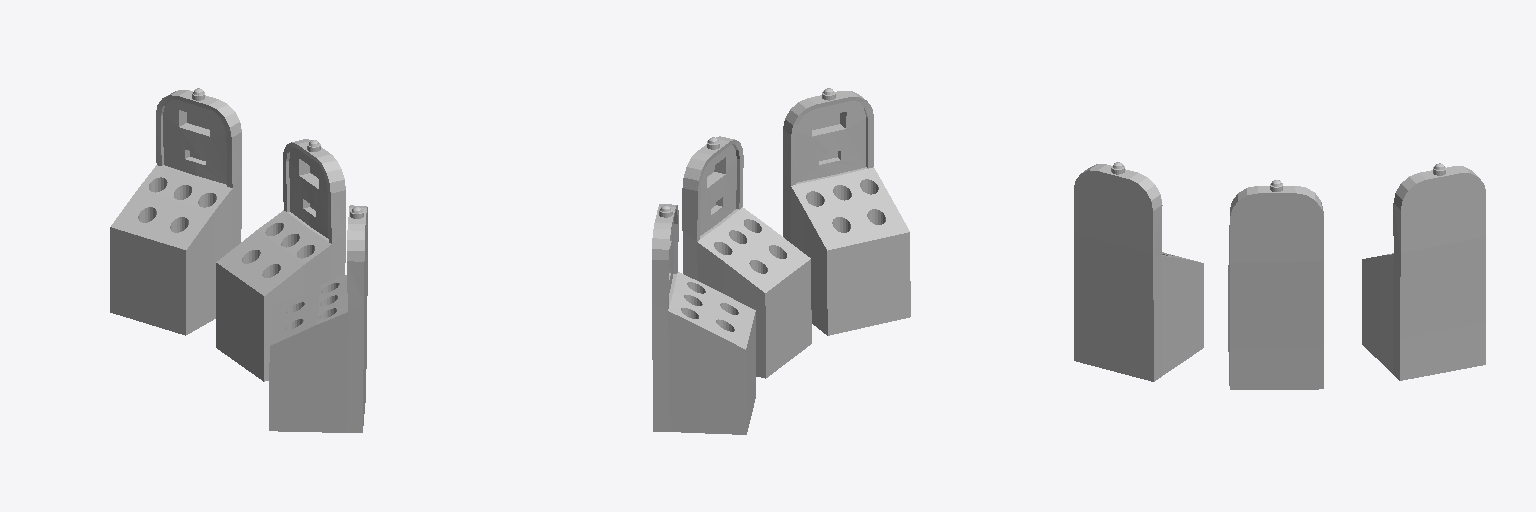
The model's file is topo.obj.
3 renders of one model, left to right at view 1: azimuth 30°, elevation 25°; view 2: azimuth 150°, elevation 25°; view 3: azimuth 270°, elevation 25°, orthographic.
Parts seen in each view (by area): view 1: WhachopefullydoneOBJ.004, WhachopefullydoneOBJ.001, WhachopefullydoneOBJ.002; view 2: WhachopefullydoneOBJ.002, WhachopefullydoneOBJ.001, WhachopefullydoneOBJ.004; view 3: WhachopefullydoneOBJ.002, WhachopefullydoneOBJ.004, WhachopefullydoneOBJ.001.
Boxes of the visible parts, <box> form: WhachopefullydoneOBJ.004: <box>110,88,241,335</box>; WhachopefullydoneOBJ.001: <box>216,139,345,381</box>; WhachopefullydoneOBJ.002: <box>269,205,367,432</box>; WhachopefullydoneOBJ.002: <box>783,88,910,335</box>; WhachopefullydoneOBJ.001: <box>682,136,811,378</box>; WhachopefullydoneOBJ.004: <box>652,204,755,434</box>; WhachopefullydoneOBJ.002: <box>1074,162,1203,381</box>; WhachopefullydoneOBJ.004: <box>1362,163,1485,380</box>; WhachopefullydoneOBJ.001: <box>1228,180,1323,389</box>.
Size of the model in its own units: 0.8241 by 1.25 by 2.27.